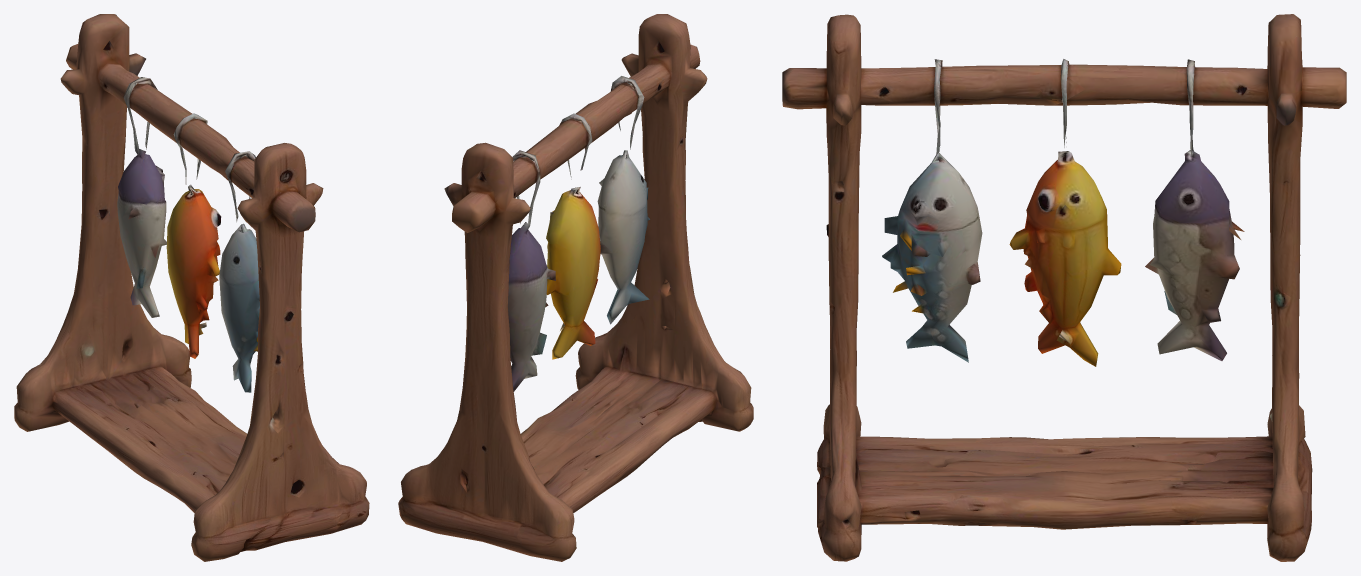
File: lib-netrack.glb
3 renders of one model, left to right at view 1: azimuth 30°, elevation 25°; view 2: azimuth 150°, elevation 25°; view 3: azimuth 270°, elevation 25°, orthographic. The views are drawn at different scales.
Visible parts, largest first — view 1: tripo_node_2b6176e1-cb2c-4dde-9667-fdf0ed7ae7e7; view 2: tripo_node_2b6176e1-cb2c-4dde-9667-fdf0ed7ae7e7; view 3: tripo_node_2b6176e1-cb2c-4dde-9667-fdf0ed7ae7e7.
Boxes of the visible parts, bbox=[...] form: tripo_node_2b6176e1-cb2c-4dde-9667-fdf0ed7ae7e7: bbox=[14, 14, 369, 561]; tripo_node_2b6176e1-cb2c-4dde-9667-fdf0ed7ae7e7: bbox=[398, 14, 753, 561]; tripo_node_2b6176e1-cb2c-4dde-9667-fdf0ed7ae7e7: bbox=[782, 14, 1346, 561].
Size of the model in its own units: 0.4438 by 0.9692 by 0.9995.
1 material, 1 textured.
